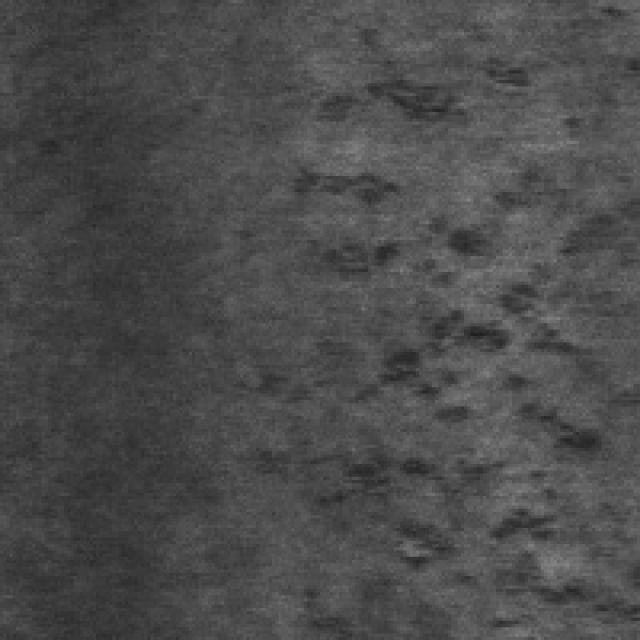rolled-in_scale: (294, 134, 634, 637), (285, 45, 563, 285)
